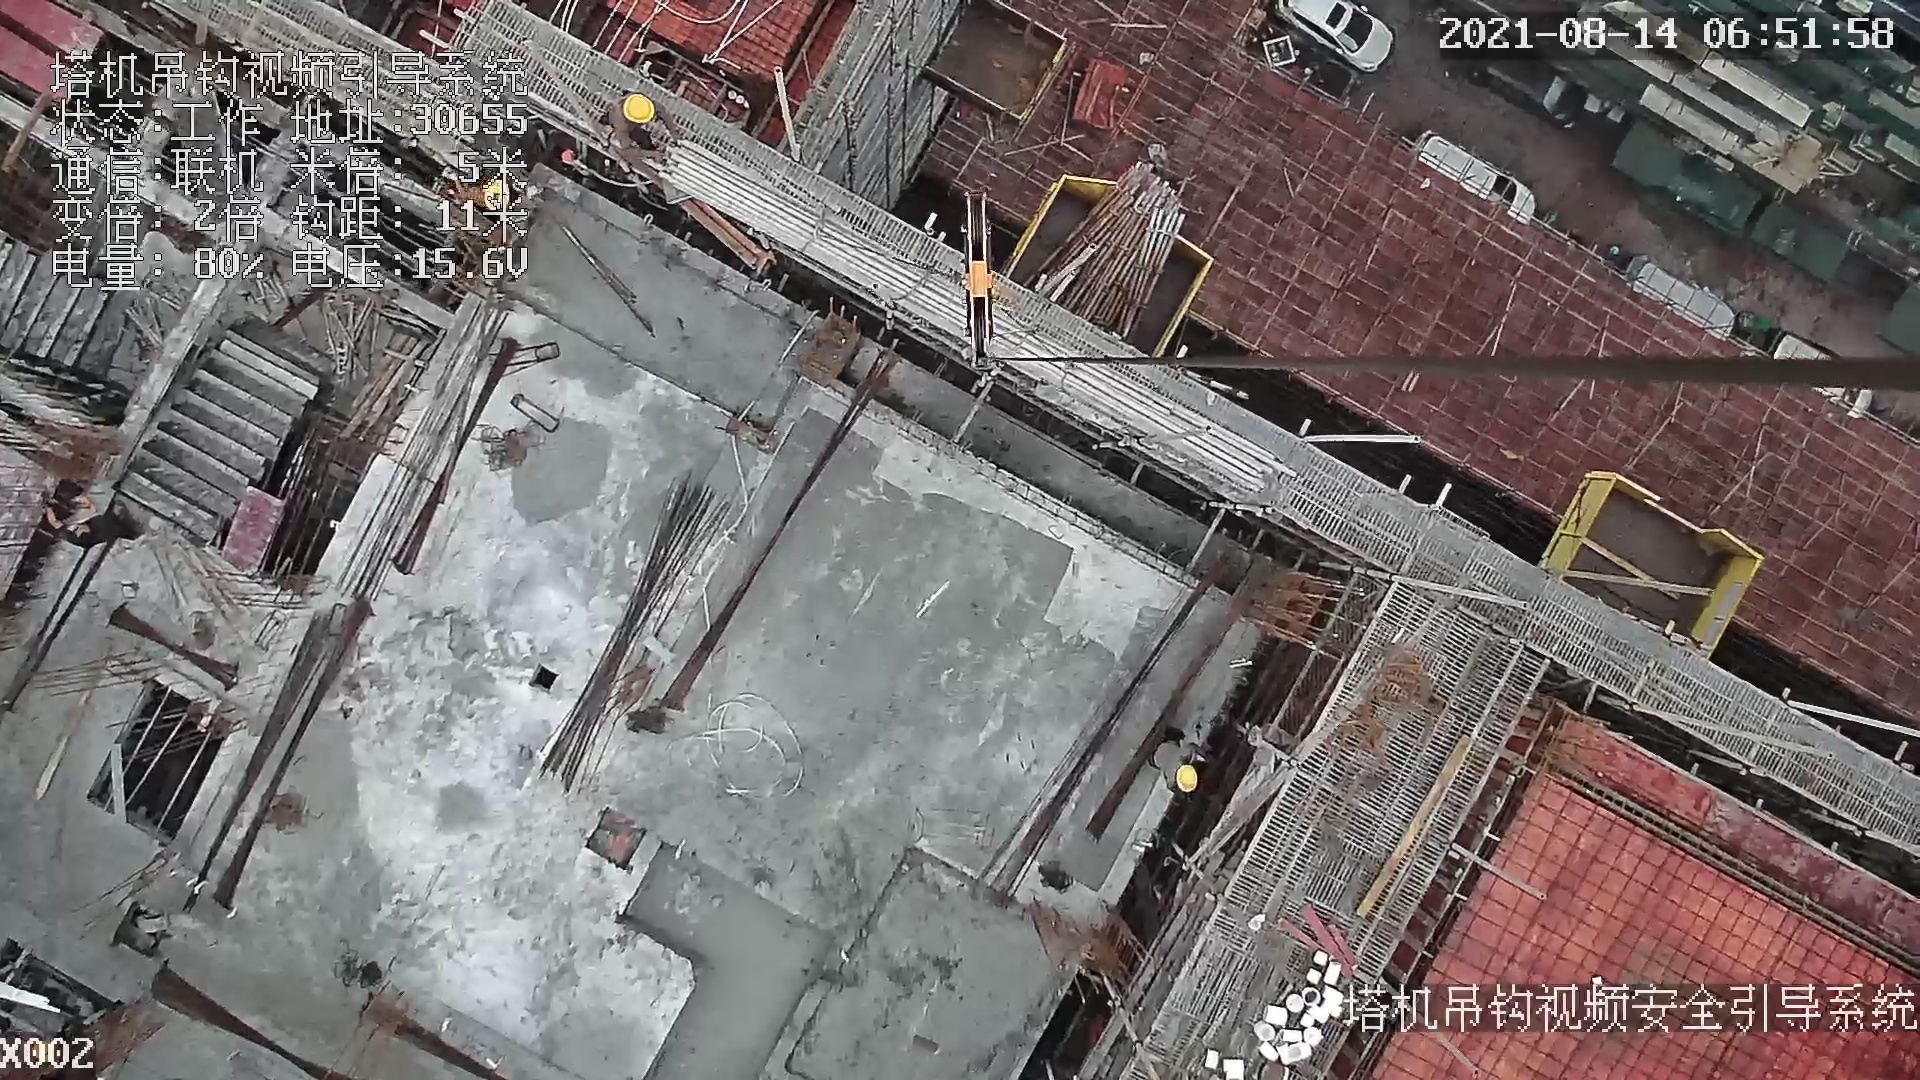helmet: (622, 95, 654, 123), (1175, 765, 1198, 794)
hook: (956, 187, 1000, 376)
person: (1141, 719, 1209, 799), (604, 90, 677, 163), (44, 500, 143, 549)
rebar: (659, 142, 1298, 491), (536, 476, 732, 797)
scaffold: (1021, 160, 1185, 338)
